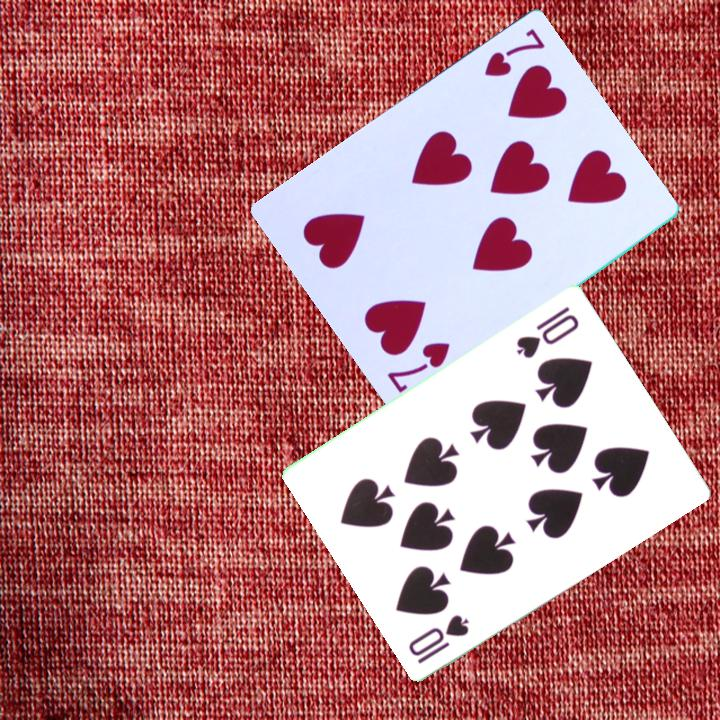10s: (512, 302, 583, 361), (405, 610, 473, 666)
7h: (383, 339, 453, 397), (480, 25, 548, 81)
